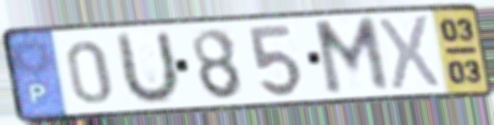0: (63, 38, 117, 105)
5: (245, 22, 307, 99)
8: (190, 27, 244, 102)
M: (310, 14, 393, 99)
U: (115, 28, 183, 108)
X: (375, 12, 443, 92)
